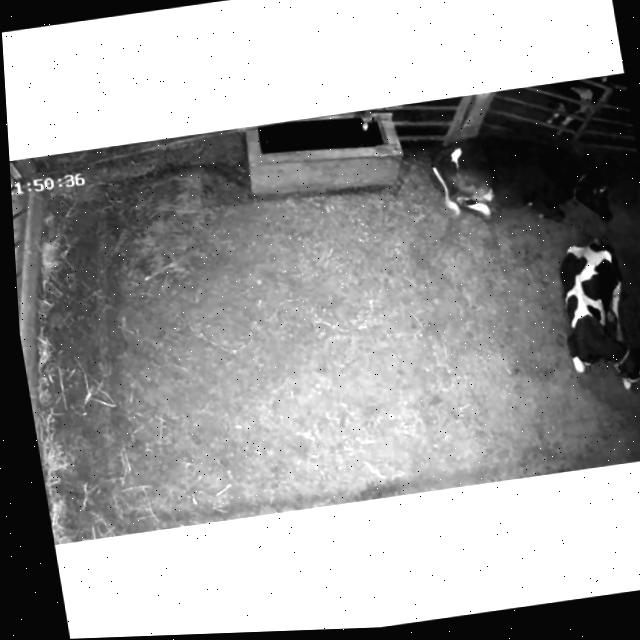lay: (409, 103, 627, 257), (529, 228, 640, 406)
